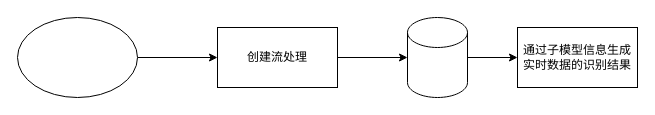
The diagram is 655 pixels wide and 115 high, and some of its shapes have lost their labels. Each missing label, with the centre of its shape:
数据模型识别: the point at 77,57
读取相应模型PKL文件: the point at 437,57
